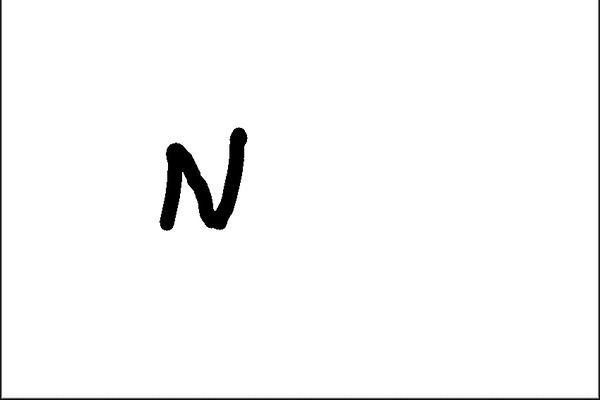N: (154, 119, 251, 237)
